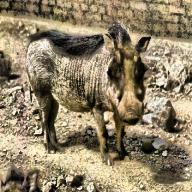boar: (26, 20, 151, 161)
